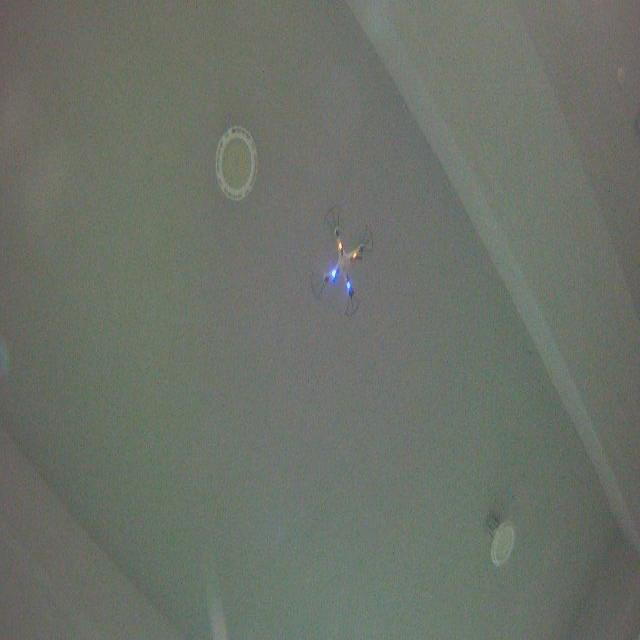drone: (308, 203, 376, 321)
